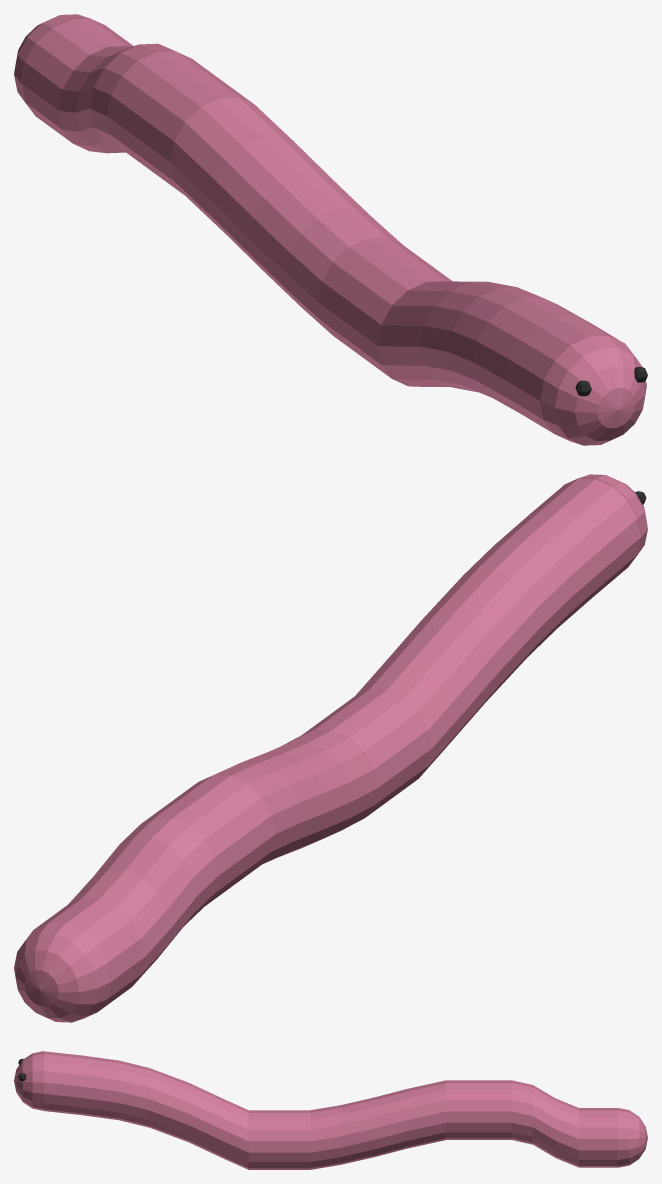
Rendered from worm.fbx.
3 renders of one model, top to bottom at view 1: azimuth 30°, elevation 25°; view 2: azimuth 150°, elevation 25°; view 3: azimuth 270°, elevation 25°, orthographic. The views are drawn at different scales.
Parts seen in each view (by area): view 1: worm; view 2: worm; view 3: worm.
Boxes of the visible parts, bbox=[...] form: worm: bbox=[14, 14, 647, 445]; worm: bbox=[14, 474, 647, 1022]; worm: bbox=[14, 1051, 647, 1169].
Bounding box in the file's own units: 7.51 × 10.83 × 59.4.
